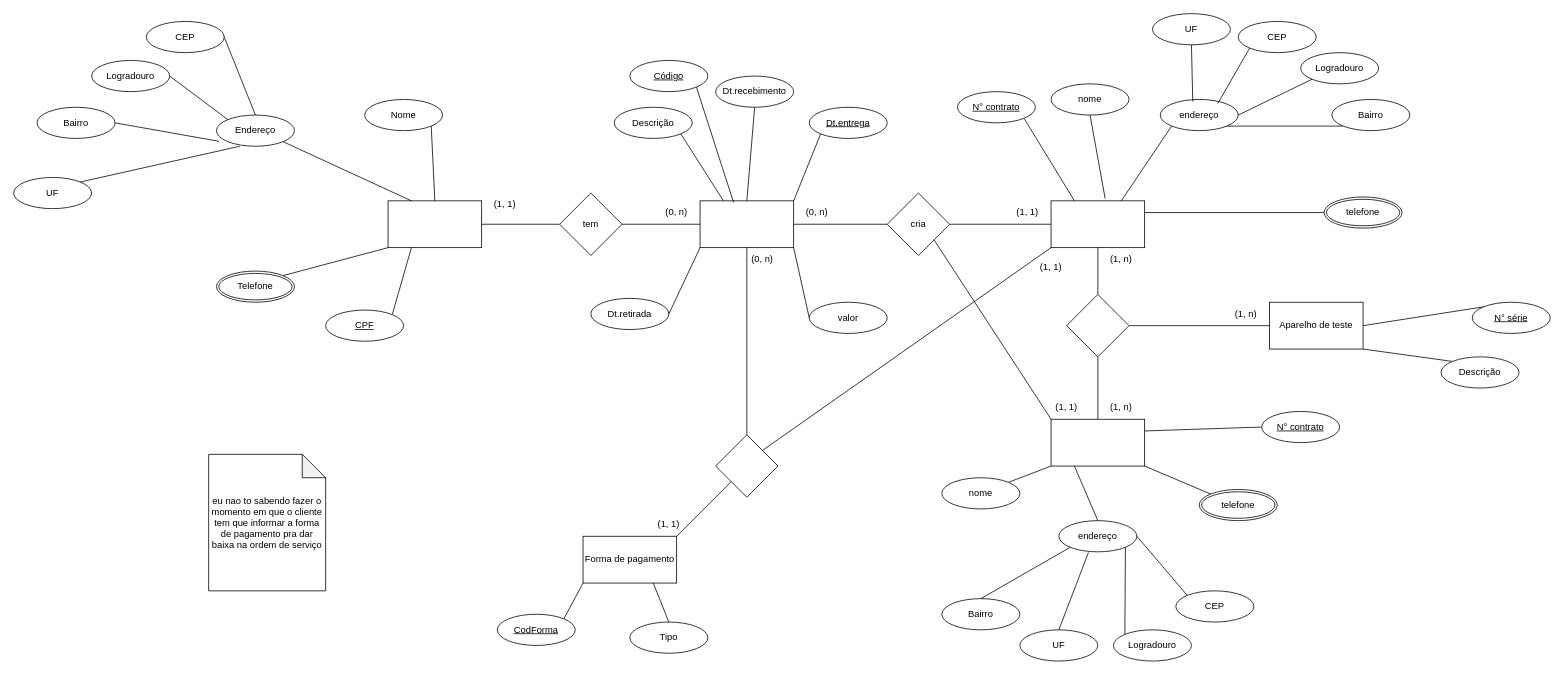
This 1564x675 diagram has some shape labels left out. The centre of each missing label's shape, as x and y in pixels:
"Cliente" belongs at point (434, 224).
"dar baixa" belongs at point (746, 465).
"designa" belongs at point (1097, 325).
"Gerente" belongs at point (1097, 224).
"Ordem de serviço" belongs at point (746, 224).
"Técnico" belongs at point (1097, 442).
